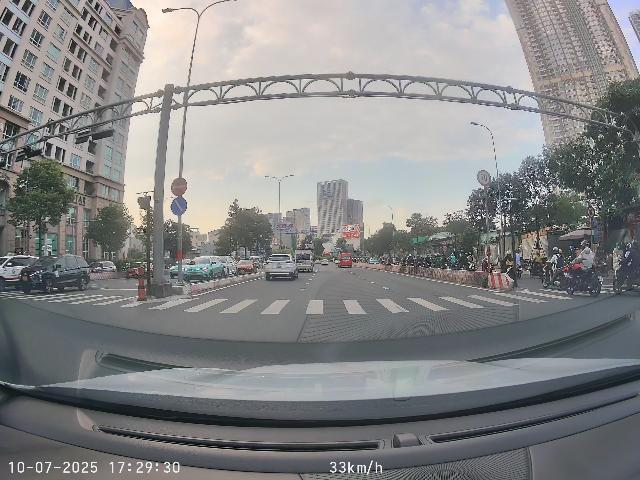102-cam-di-nguoc-chieu: (171, 177, 187, 196)
127-toc-do-toi-da-60: (587, 206, 595, 218)
127-toc-do-toi-da-70: (477, 170, 491, 186)
302a-huong-phai-di-vong-chuong-ngai-vat-1: (171, 197, 187, 216)
